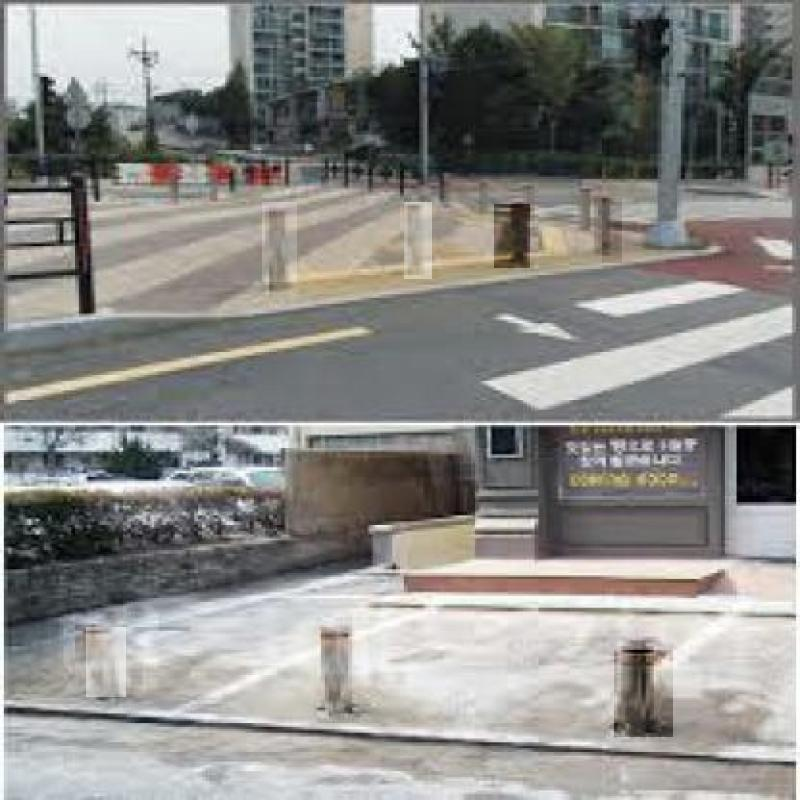bolard: (614, 650, 673, 737), (314, 627, 360, 720), (86, 627, 126, 697), (262, 202, 297, 282), (494, 204, 530, 268), (404, 202, 432, 279), (602, 198, 622, 263)
